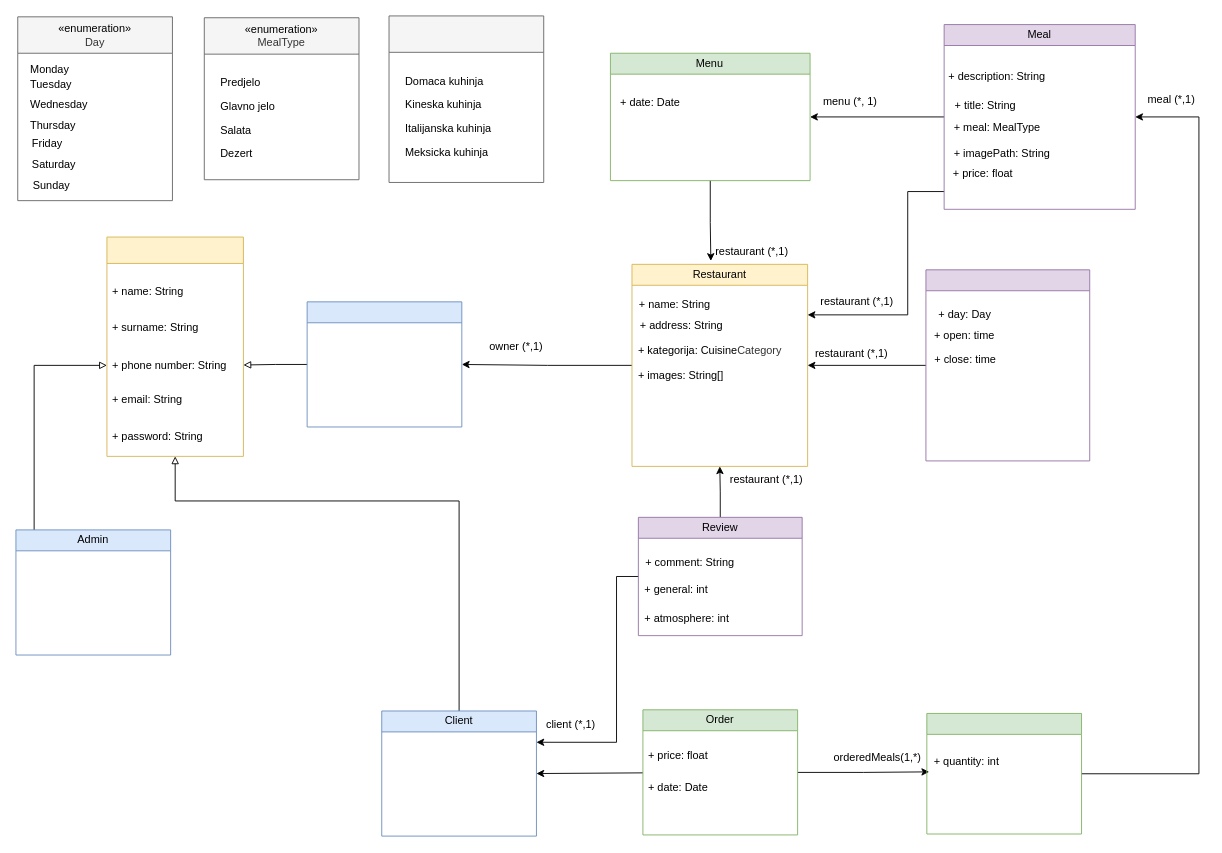
This 1222x853 diagram has some shape labels left out. Each missing label, with the box of its shape:
OrderItem: (926, 713, 1082, 834)
Owner: (306, 301, 462, 427)
WorkHour: (925, 269, 1090, 461)
«abstract» User: (106, 236, 243, 456)
«enumeration» CuisineCategory: (388, 15, 544, 182)
